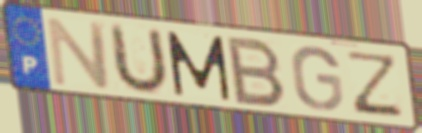B: (225, 34, 289, 109)
G: (289, 44, 346, 113)
M: (163, 29, 234, 103)
N: (45, 16, 114, 90)
U: (109, 21, 171, 96)
Z: (347, 49, 404, 119)
